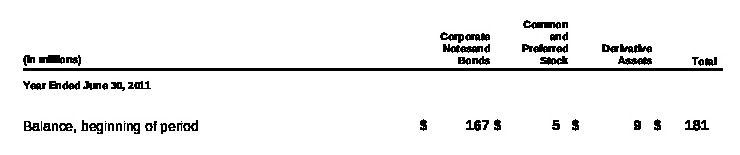table: (0, 0, 740, 155)
